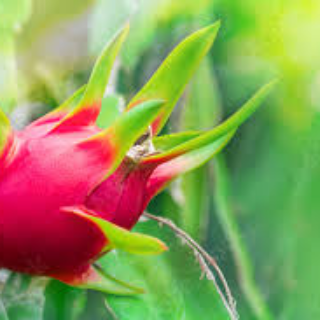thanh_long: (1, 103, 191, 295)
